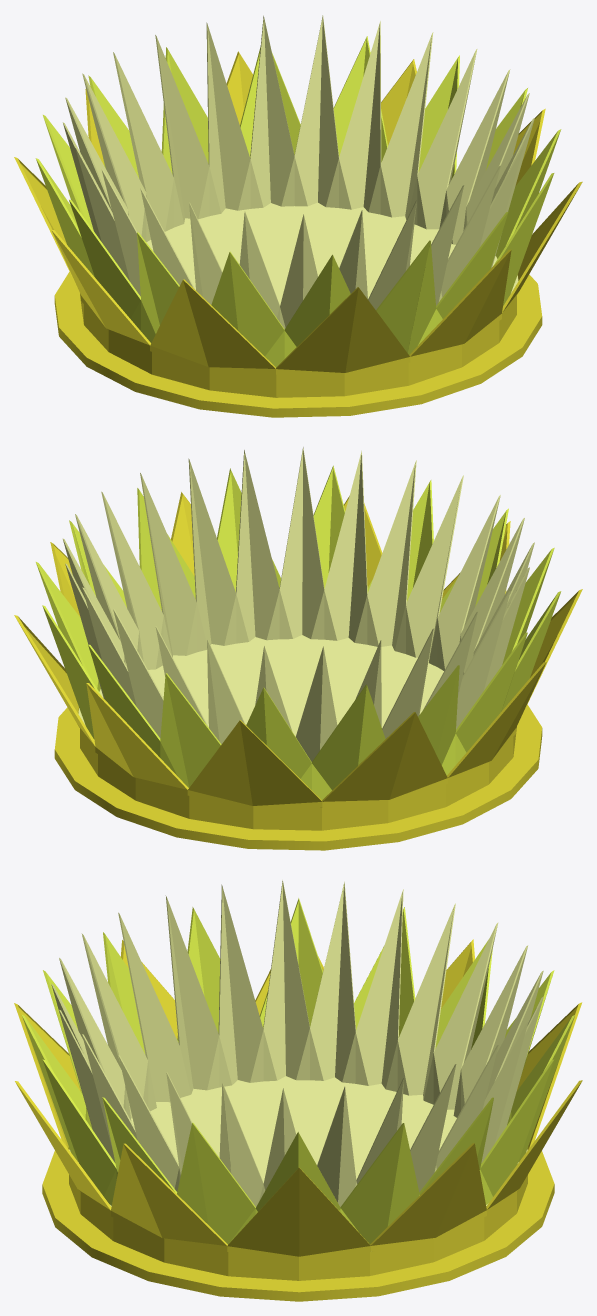
Rendered from portal_000002.obj.
3 renders of one model, top to bottom at view 1: azimuth 30°, elevation 25°; view 2: azimuth 150°, elevation 25°; view 3: azimuth 270°, elevation 25°, orthographic. The views are drawn at different scales.
Parts seen in each view (by area): view 1: Cylinder.001, pCylinder1, Cylinder; view 2: Cylinder.001, pCylinder1, Cylinder; view 3: Cylinder.001, pCylinder1, Cylinder.
Boxes of the visible parts, box(x1,y1,x2,y2) form: Cylinder.001: box(63, 15, 534, 328); pCylinder1: box(14, 51, 582, 417); Cylinder: box(35, 36, 561, 367); Cylinder.001: box(62, 447, 534, 761); pCylinder1: box(14, 492, 582, 850); Cylinder: box(36, 465, 561, 799); Cylinder.001: box(51, 880, 543, 1206); pCylinder1: box(14, 939, 582, 1301); Cylinder: box(21, 898, 575, 1244).
Size of the model in its own units: 7.45 by 2.9 by 7.09.
Materials: 3 (3 with a texture image).
